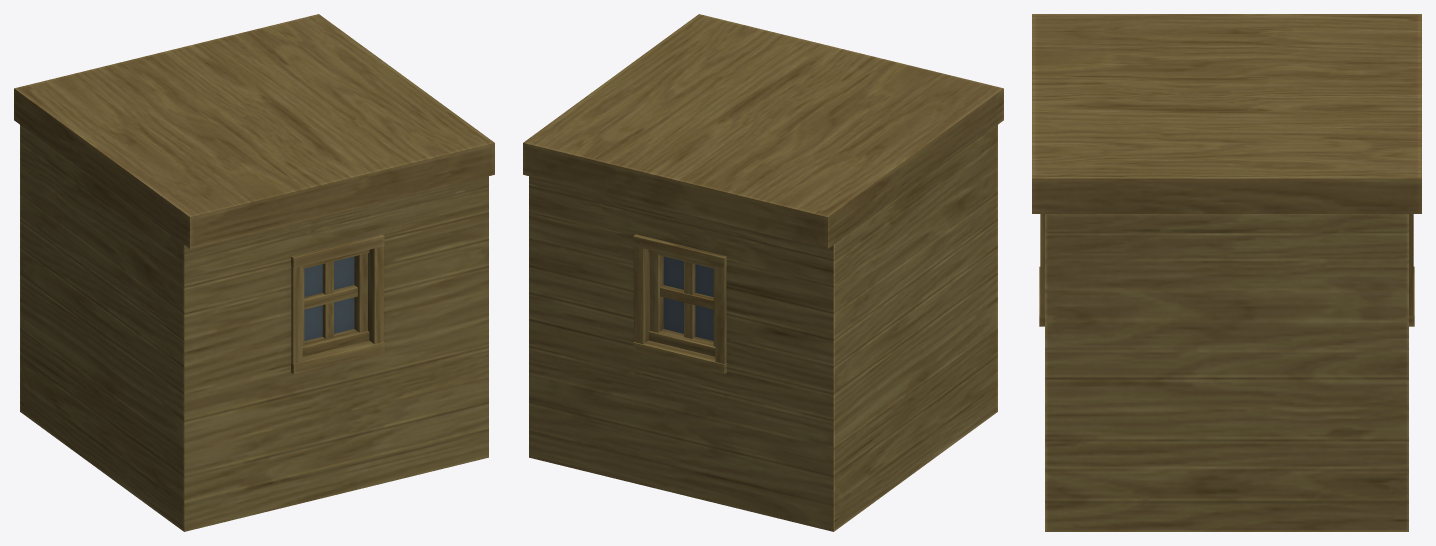
File: sb_obj_outdoor028_house03_wall03.fbx
The picture shows the model from 3 angles, left to right: view 1: azimuth 30°, elevation 25°; view 2: azimuth 150°, elevation 25°; view 3: azimuth 270°, elevation 25°; orthographic projection. The views are drawn at different scales.
Visible parts, largest first — view 1: sb_obj_outdoor028_house03_wall03; view 2: sb_obj_outdoor028_house03_wall03; view 3: sb_obj_outdoor028_house03_wall03.
Boxes of the visible parts, <box> form: sb_obj_outdoor028_house03_wall03: <box>14,14,494,531</box>; sb_obj_outdoor028_house03_wall03: <box>523,14,1003,531</box>; sb_obj_outdoor028_house03_wall03: <box>1032,14,1421,531</box>.
Bounding box in the file's own units: 3 × 3 × 3.
1 material, 1 textured.
